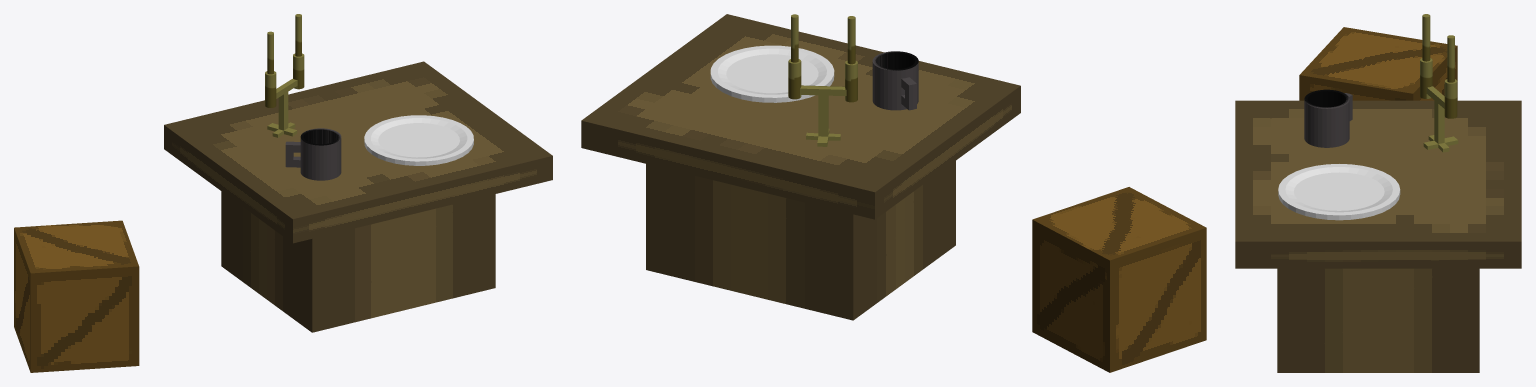
Rendered from room_deco.glb.
3 renders of one model, left to right at view 1: azimuth 30°, elevation 25°; view 2: azimuth 150°, elevation 25°; view 3: azimuth 270°, elevation 25°, orthographic. The views are drawn at different scales.
Parts seen in each view (by area): view 1: table, wood_box, plate, cup, candale; view 2: table, wood_box, plate, candale, cup; view 3: table, wood_box, plate, candale, cup.
Boxes of the visible parts, x1=… form: table: x1=164, y1=61, x2=552, y2=332; wood_box: x1=14, y1=220, x2=139, y2=372; plate: x1=364, y1=115, x2=473, y2=165; cup: x1=285, y1=128, x2=341, y2=180; candale: x1=265, y1=14, x2=304, y2=137; table: x1=581, y1=14, x2=1020, y2=320; wood_box: x1=1032, y1=187, x2=1206, y2=372; plate: x1=710, y1=45, x2=834, y2=102; candale: x1=788, y1=14, x2=857, y2=146; cup: x1=872, y1=51, x2=918, y2=110; table: x1=1235, y1=100, x2=1521, y2=372; wood_box: x1=1299, y1=27, x2=1457, y2=100; plate: x1=1278, y1=164, x2=1400, y2=220; candale: x1=1420, y1=14, x2=1458, y2=152; cup: x1=1304, y1=89, x2=1352, y2=147.
Size of the model in its own units: 9.95 by 4.92 by 4.7.
Materials: 4 (4 with a texture image).
